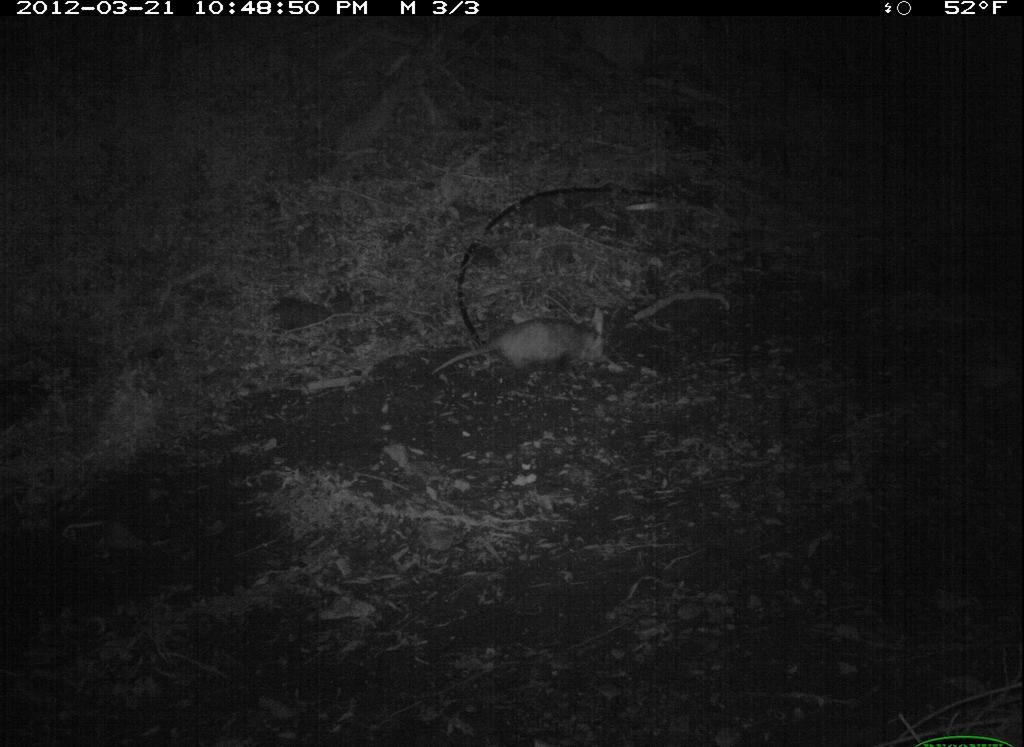opossum: (420, 317, 615, 390)
